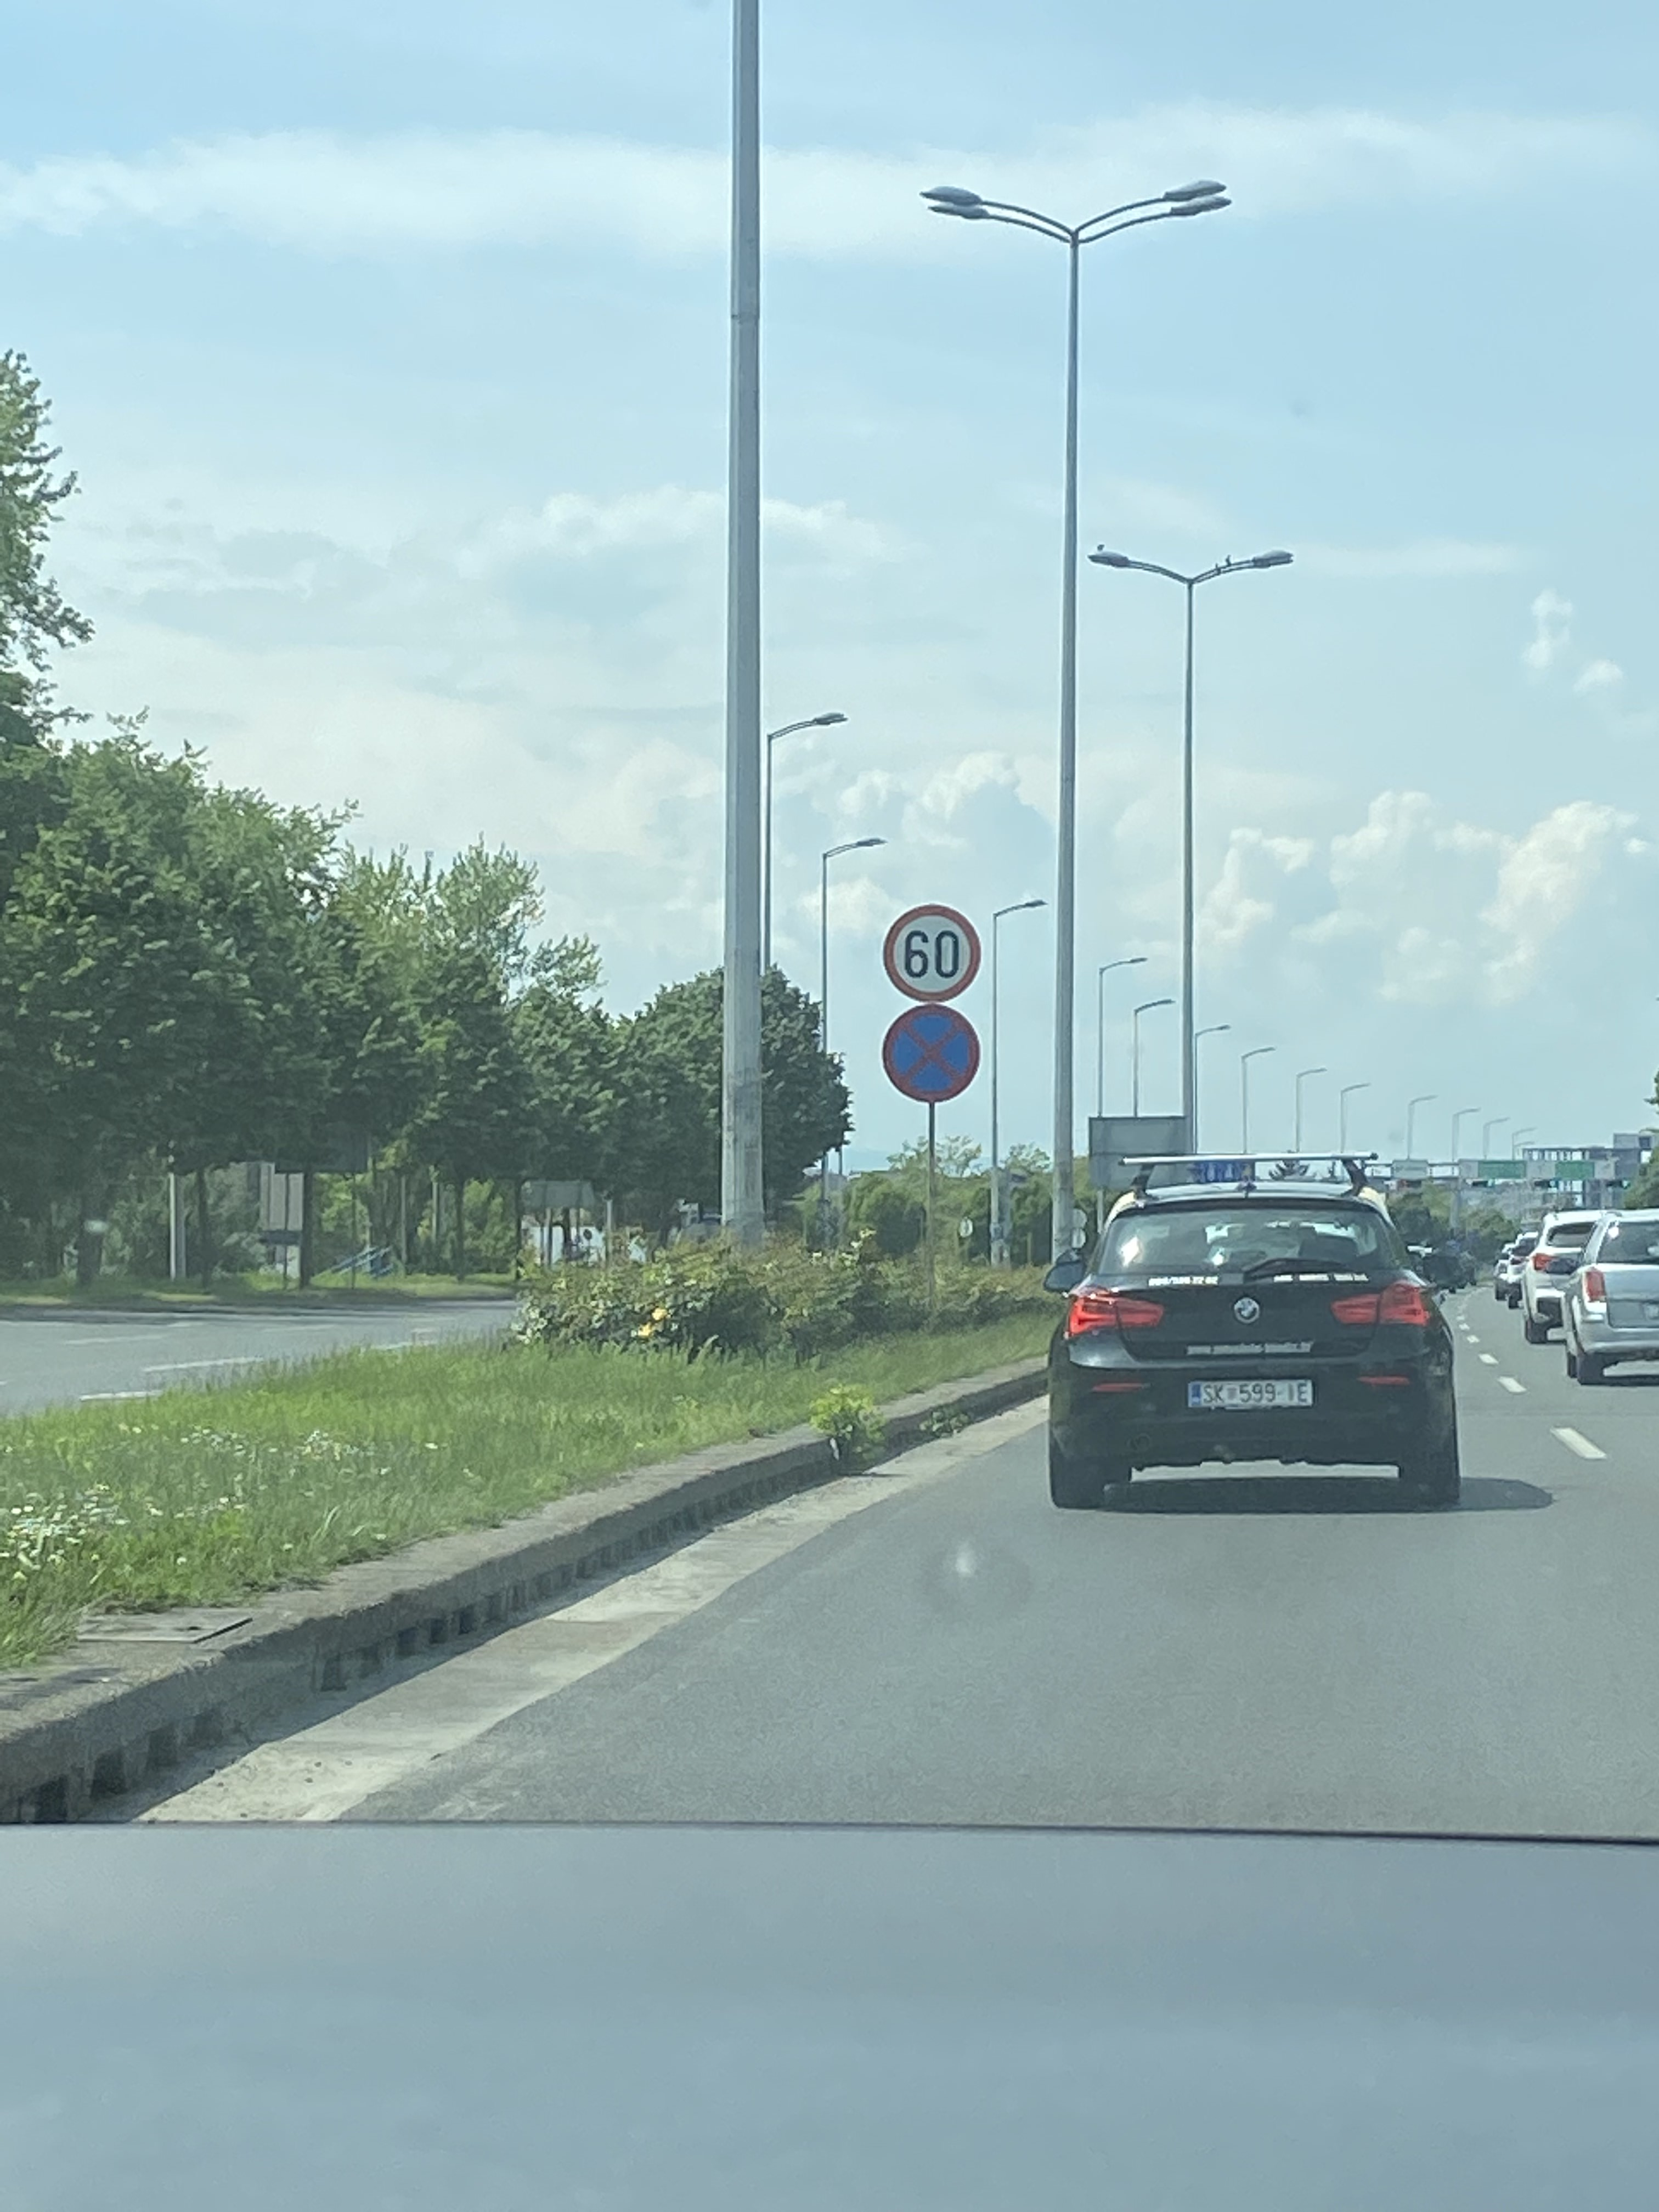Ograničenje brzine 60: (882, 902, 983, 1003)
